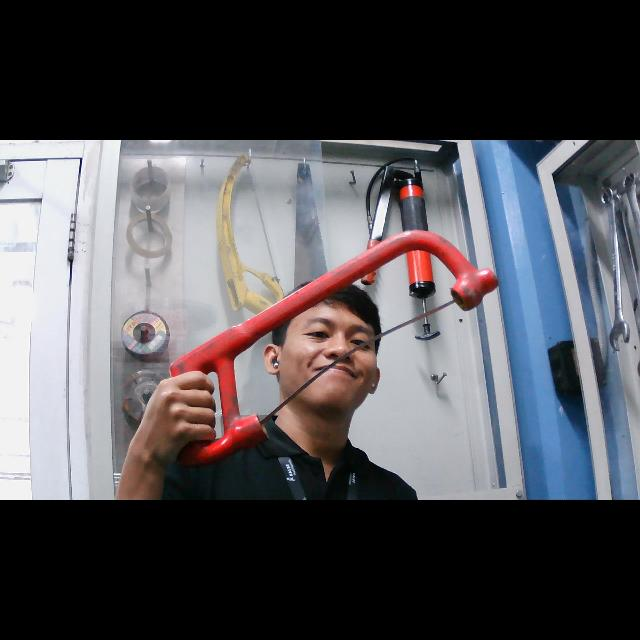gergaji_besi: (157, 227, 501, 471)
